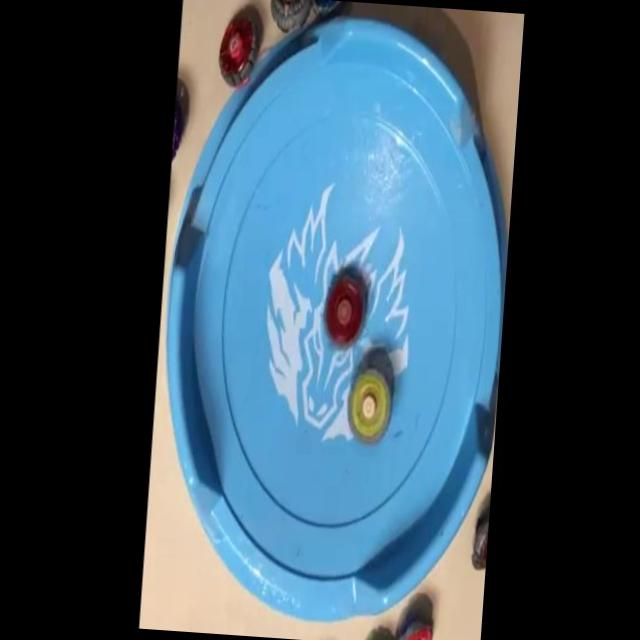Beyblade: (346, 364, 394, 444), (320, 274, 366, 348), (217, 11, 260, 90)
